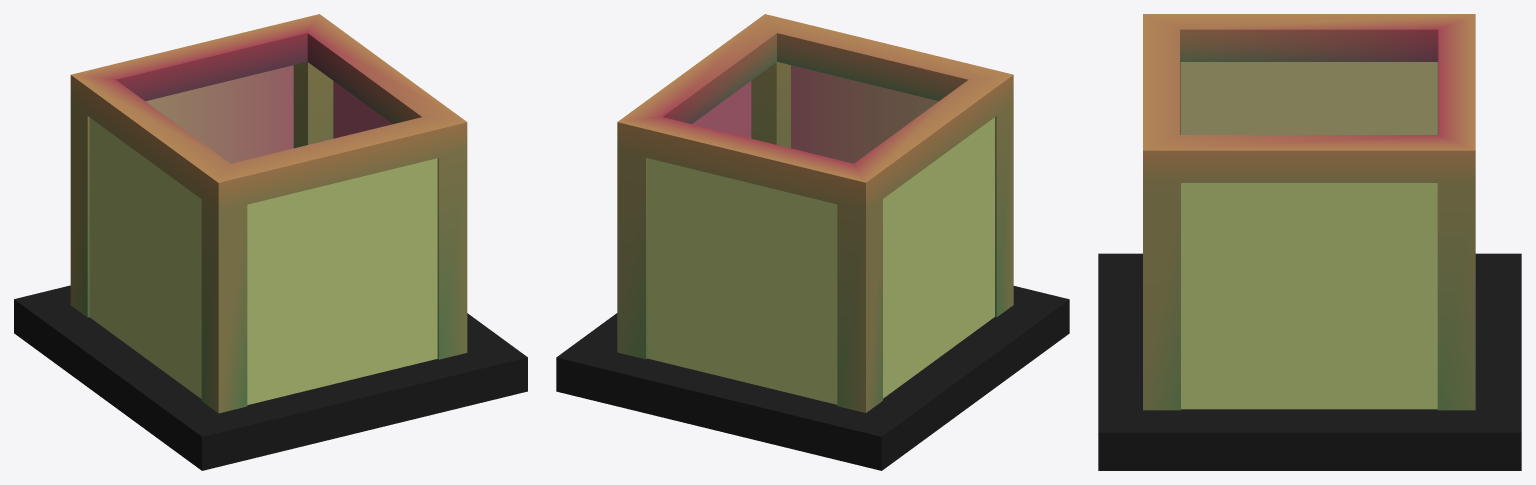
The picture shows the model from 3 angles, left to right: view 1: azimuth 30°, elevation 25°; view 2: azimuth 150°, elevation 25°; view 3: azimuth 270°, elevation 25°; orthographic projection. The views are drawn at different scales.
Parts seen in each view (by area): view 1: panels, rim, slab, post.001, post.002, post.003, post.004; view 2: panels, rim, slab, post.003, post.004, post.001, post.002; view 3: panels, slab, rim, post.004, post.002.
Boxes of the visible parts, <box> form: panels: <box>89,65,437,404</box>; rim: <box>70,14,467,211</box>; slab: <box>14,285,527,470</box>; post.001: <box>201,199,247,413</box>; post.002: <box>437,149,467,359</box>; post.003: <box>70,104,89,317</box>; post.004: <box>293,62,333,148</box>; panels: <box>647,65,994,404</box>; rim: <box>617,14,1013,210</box>; slab: <box>556,286,1069,470</box>; post.003: <box>837,199,882,412</box>; post.004: <box>617,149,647,359</box>; post.001: <box>995,103,1013,317</box>; post.002: <box>751,62,790,148</box>; panels: <box>1181,62,1437,409</box>; slab: <box>1098,253,1521,470</box>; rim: <box>1143,14,1475,182</box>; post.004: <box>1437,183,1475,410</box>; post.002: <box>1143,183,1180,410</box>.
Bounding box in the file's own units: 0.5 × 0.3881 × 0.5.
